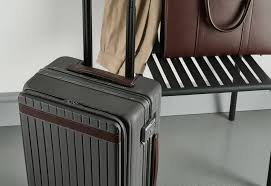suitcase: (16, 1, 162, 186)
